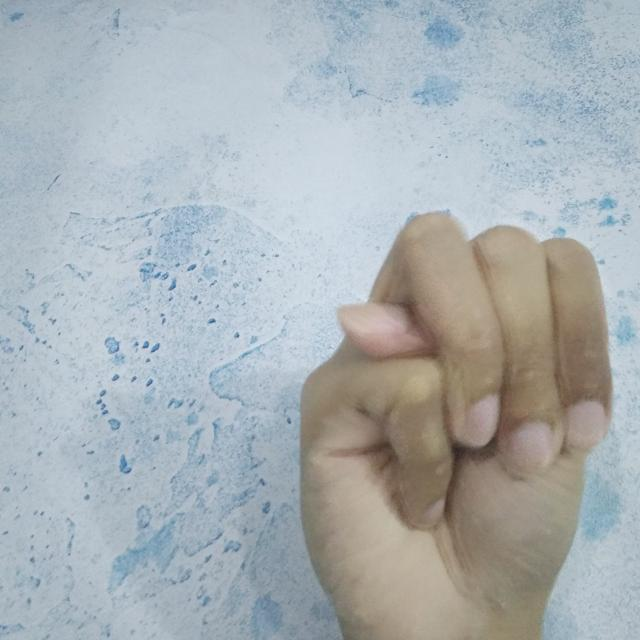M: (282, 208, 618, 640)
